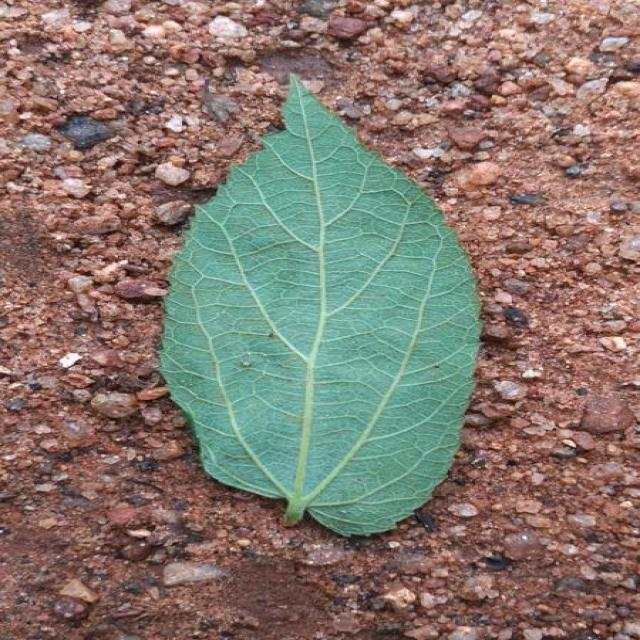gasagase: (162, 78, 480, 534)
